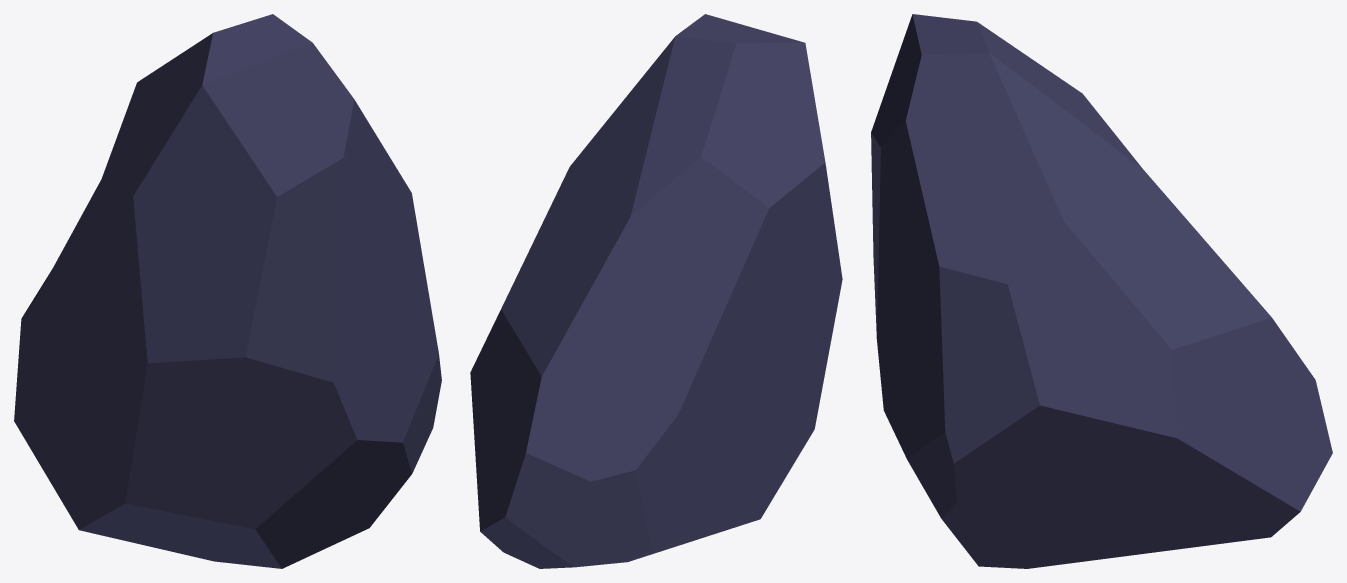
File: stone1.fbx
The picture shows the model from 3 angles, left to right: view 1: azimuth 30°, elevation 25°; view 2: azimuth 150°, elevation 25°; view 3: azimuth 270°, elevation 25°; orthographic projection. The views are drawn at different scales.
Visible parts, largest first — view 1: Plane; view 2: Plane; view 3: Plane.
Part boxes in pixels (left/top/right/bottom): Plane: left=14, top=14, right=441, bottom=568; Plane: left=470, top=14, right=842, bottom=568; Plane: left=871, top=14, right=1332, bottom=568.
Size of the model in its own units: 118 by 193 by 162.
